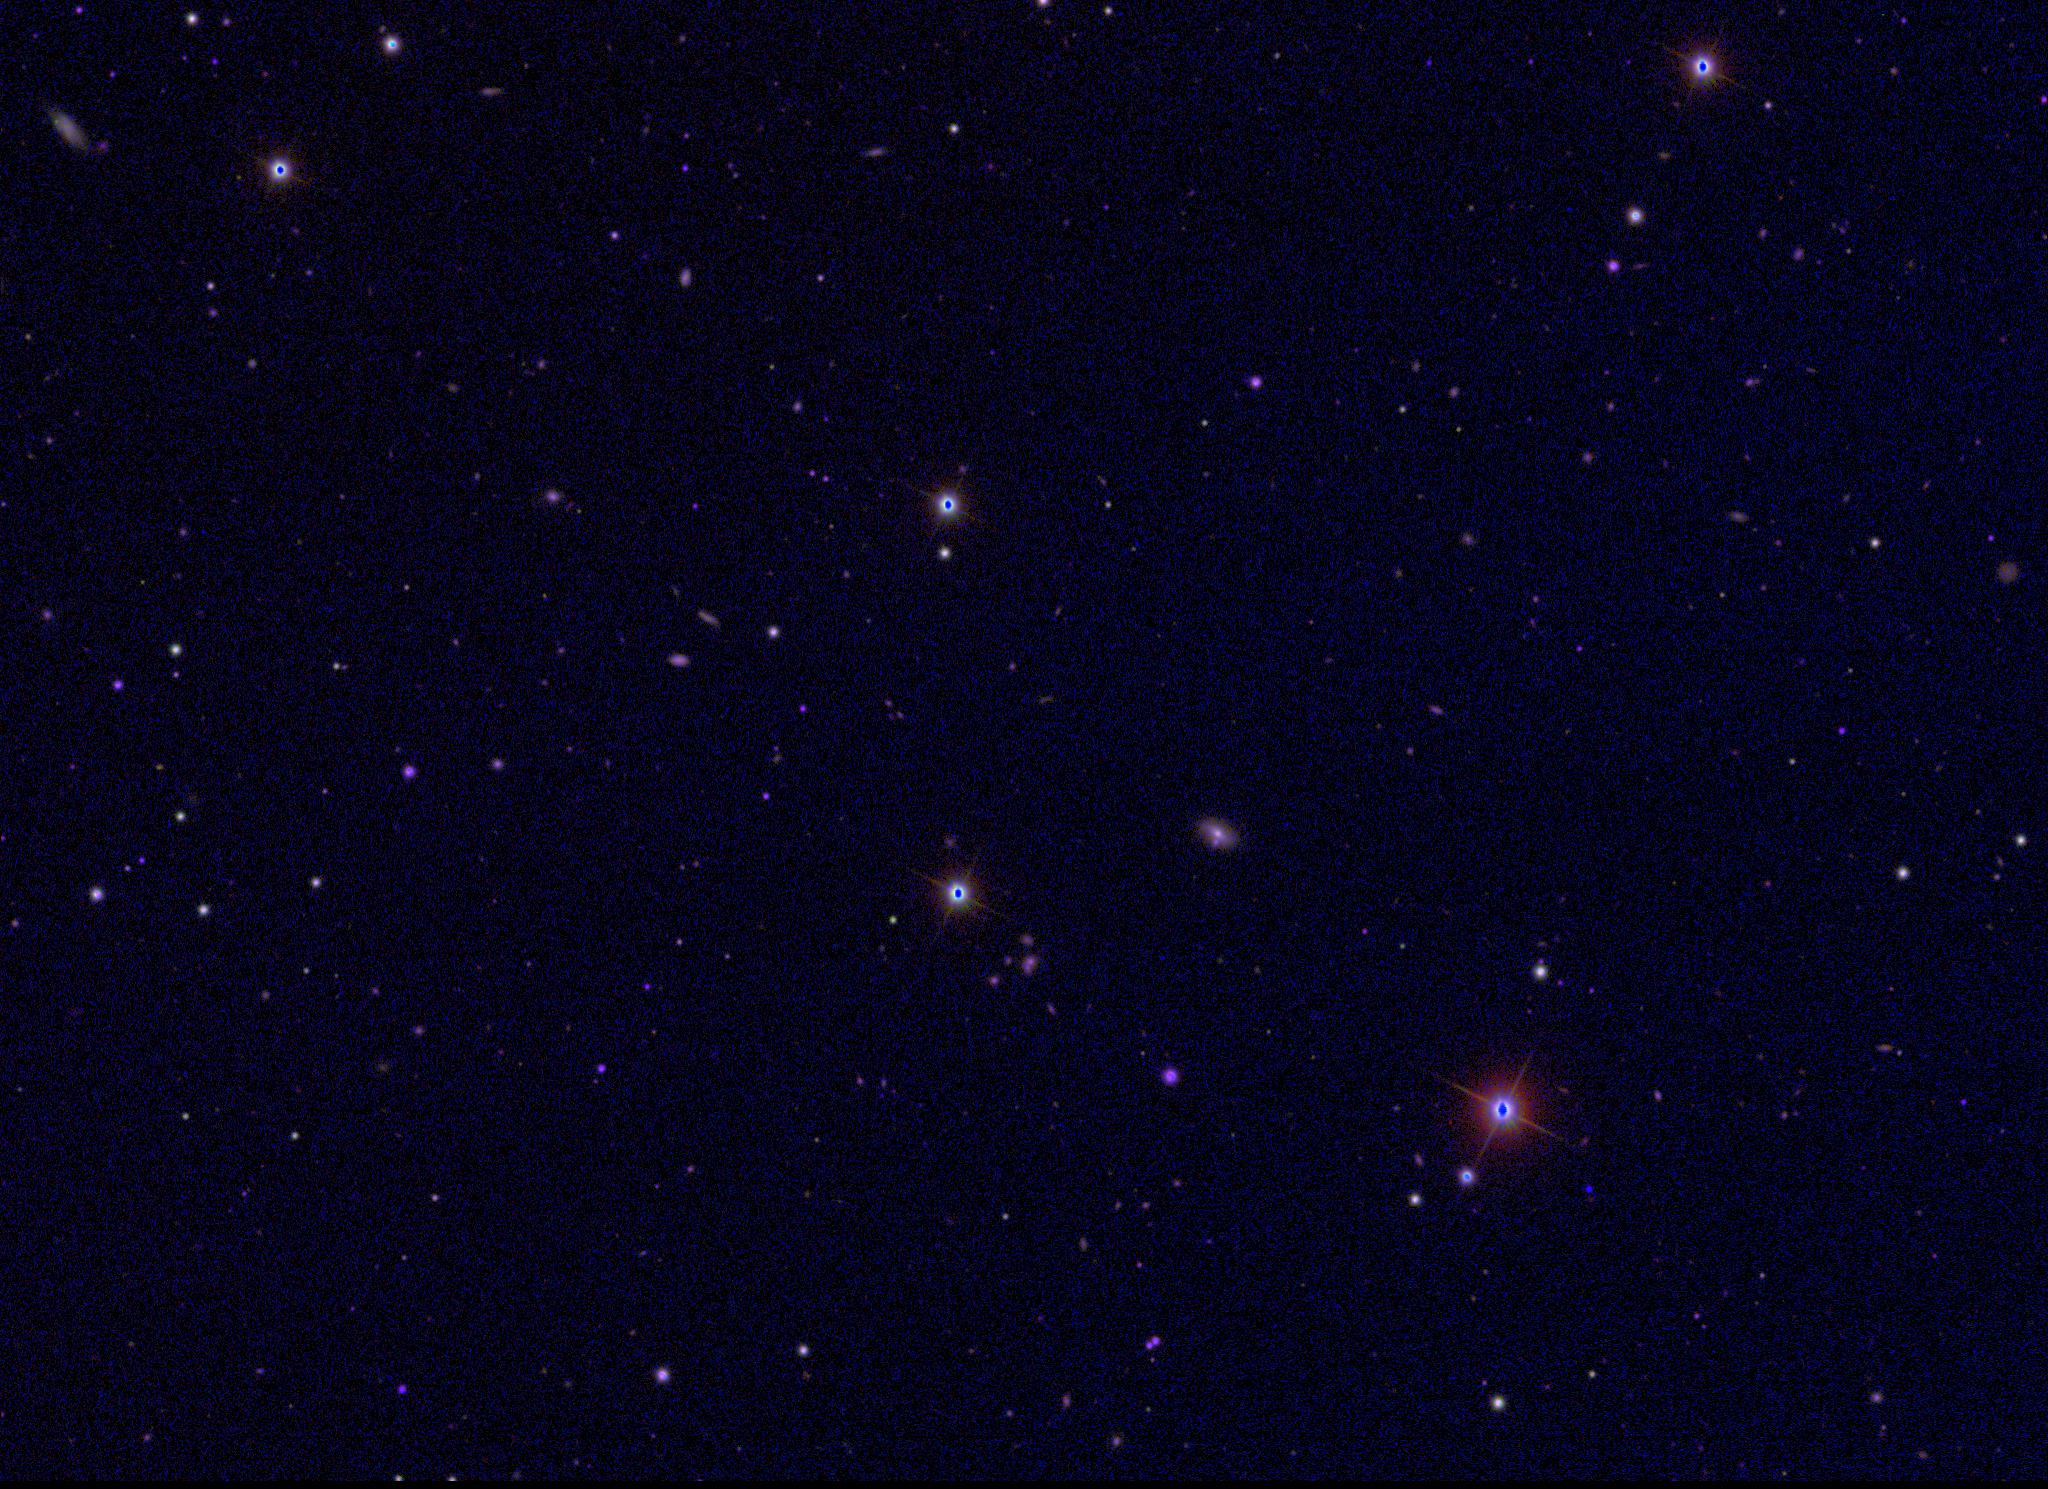L: (1581, 1184, 1593, 1196)
